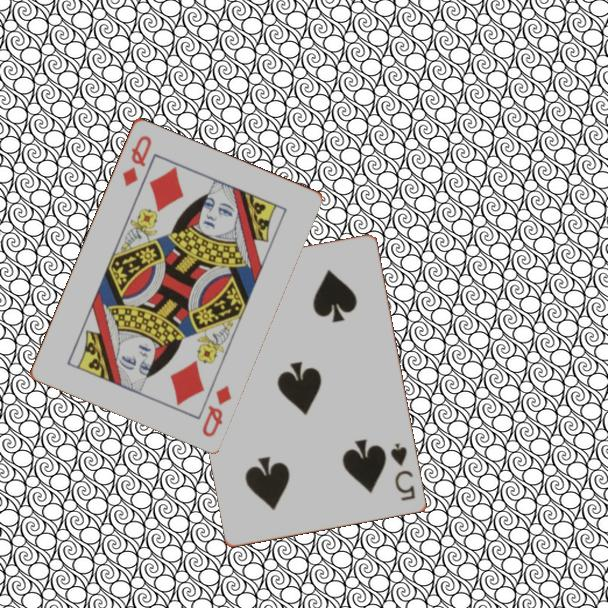d12: (198, 381, 234, 440), (119, 131, 155, 189)
s05: (387, 440, 418, 504)
